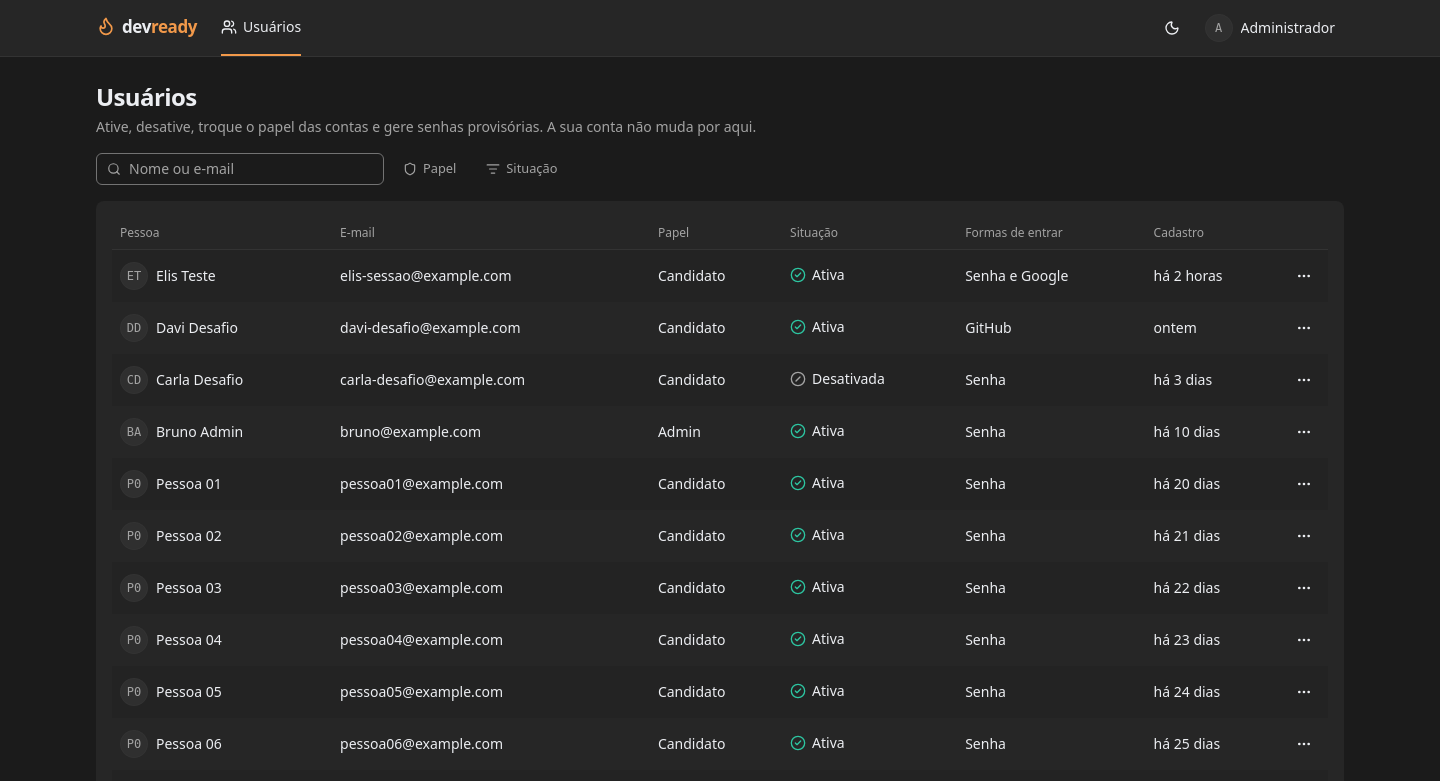
it: senha provisória na gestão de usuários › a ação fica no menu das outras contas e não aparece na própria
This screenshot has width=1440, height=781.
Click the button named "Ações para Elis Teste".
click(1304, 276)  # box [1288,260,1320,292]
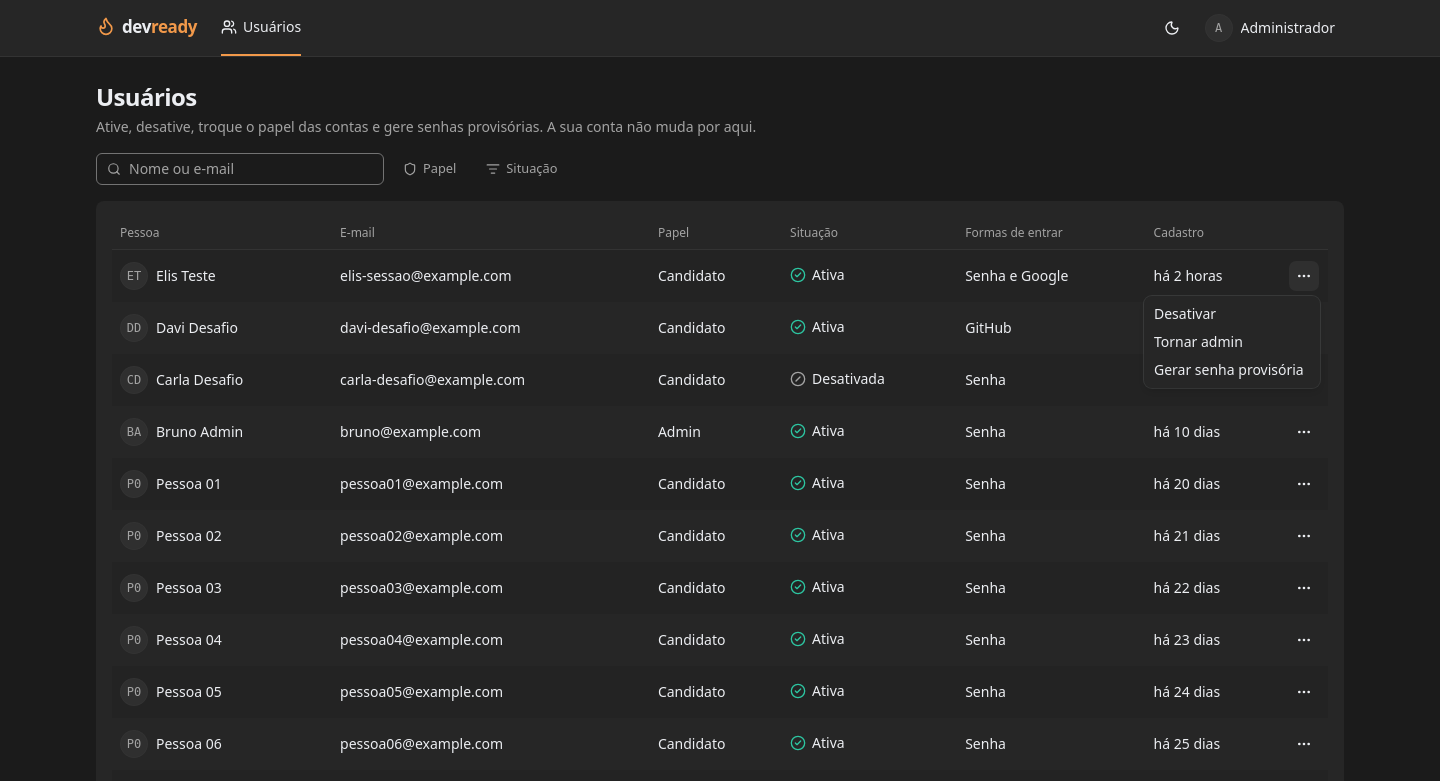
Now the menu item "Gerar senha provisória" is shown, box [1148,356,1316,384]
Press Escape
(page scrolled)
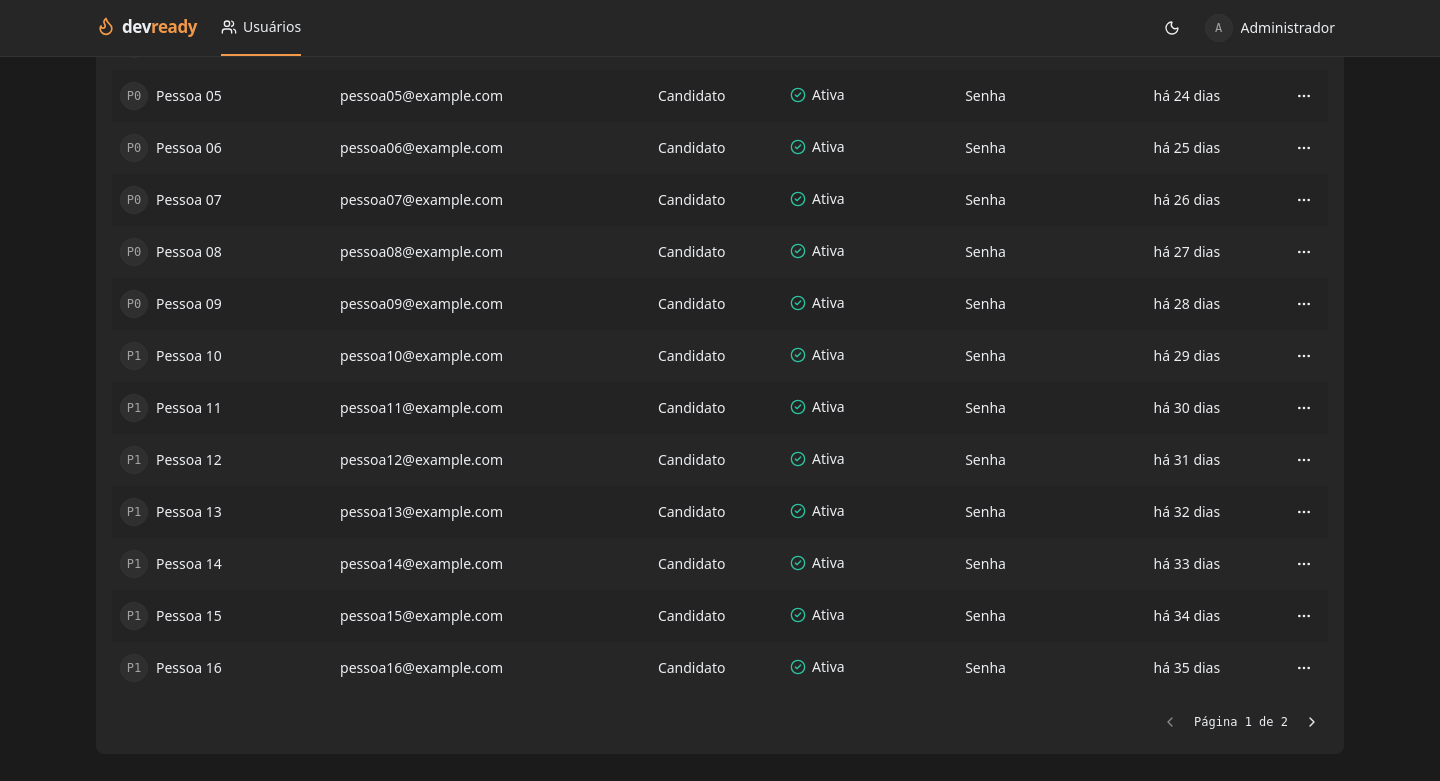
Click the button named "Próxima página".
click(1312, 722)  # box [1296,706,1328,738]
(page scrolled)
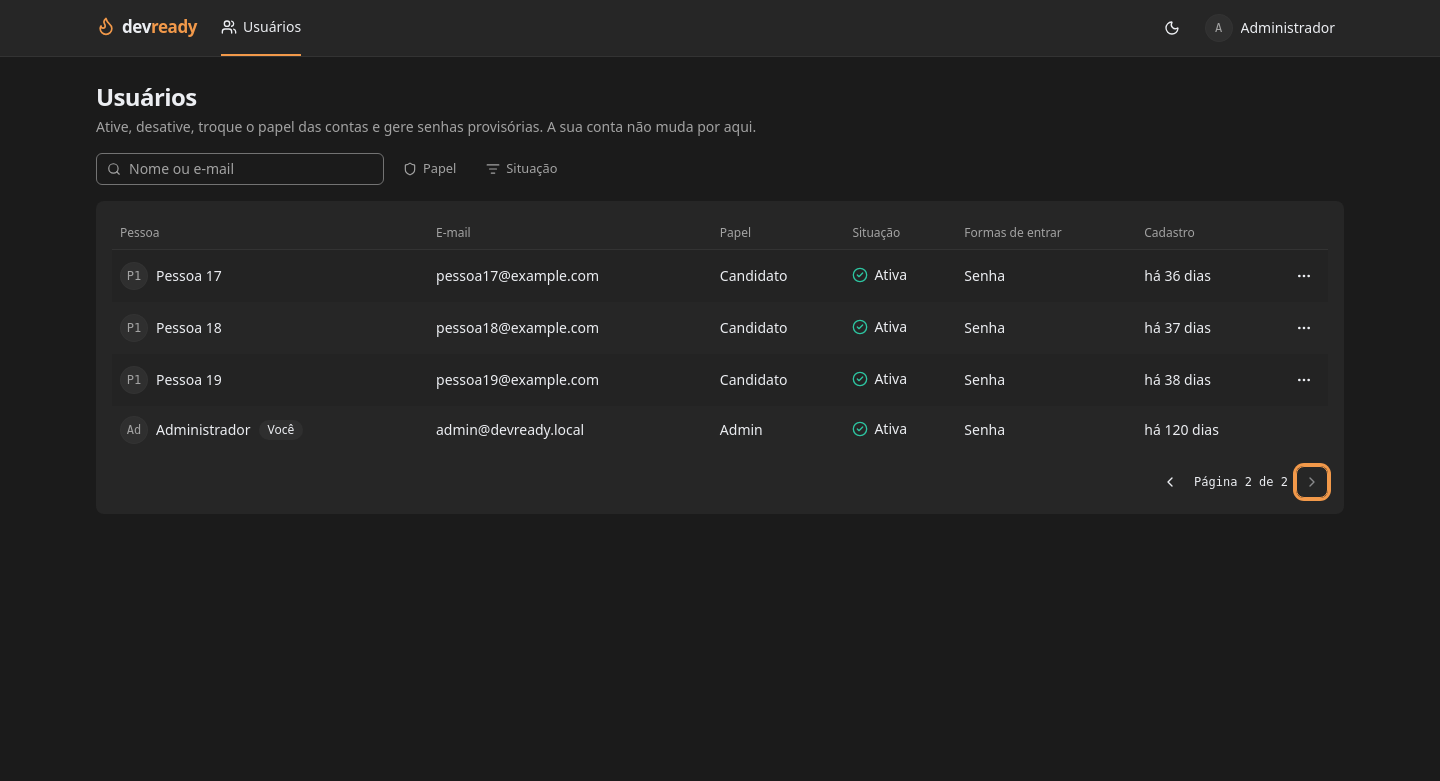
Expected: the menu item "Gerar senha provisória" is not shown
Now the row that starts with "Administrador" is shown, box [112,406,1328,454]
